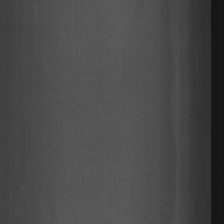silk_spot: (49, 19, 89, 69)
